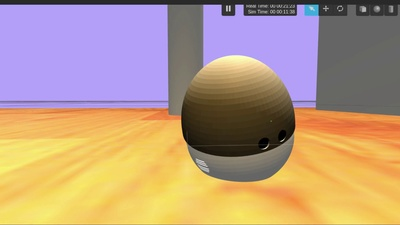mira_robot: (182, 53, 296, 182)
